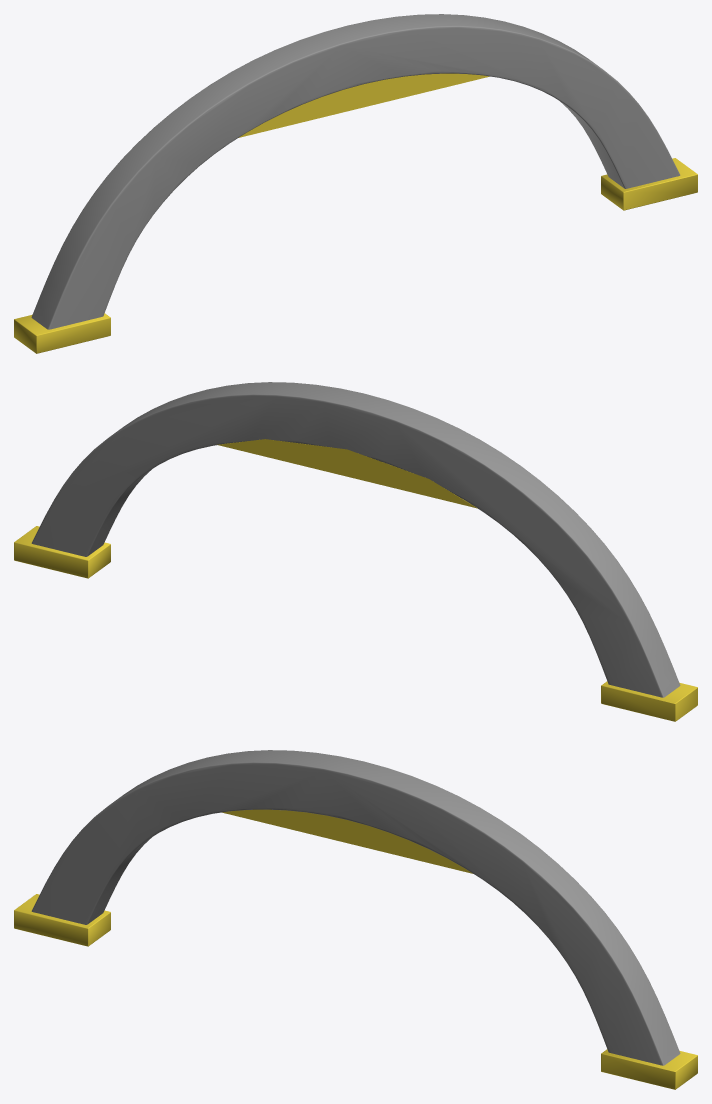
The model's file is RaceStart_1.fbx.
3 views of the same model, one above another, from view 1: azimuth 30°, elevation 25°; view 2: azimuth 150°, elevation 25°; view 3: azimuth 330°, elevation 25° (orthographic).
Visible parts, largest first — view 1: RaceStart_1; view 2: RaceStart_1; view 3: RaceStart_1.
Boxes of the visible parts, <box> form: RaceStart_1: <box>14,14,697,353</box>; RaceStart_1: <box>14,382,697,721</box>; RaceStart_1: <box>14,750,697,1089</box>.
Bounding box in the file's own units: 1540 × 520 × 91.69.
